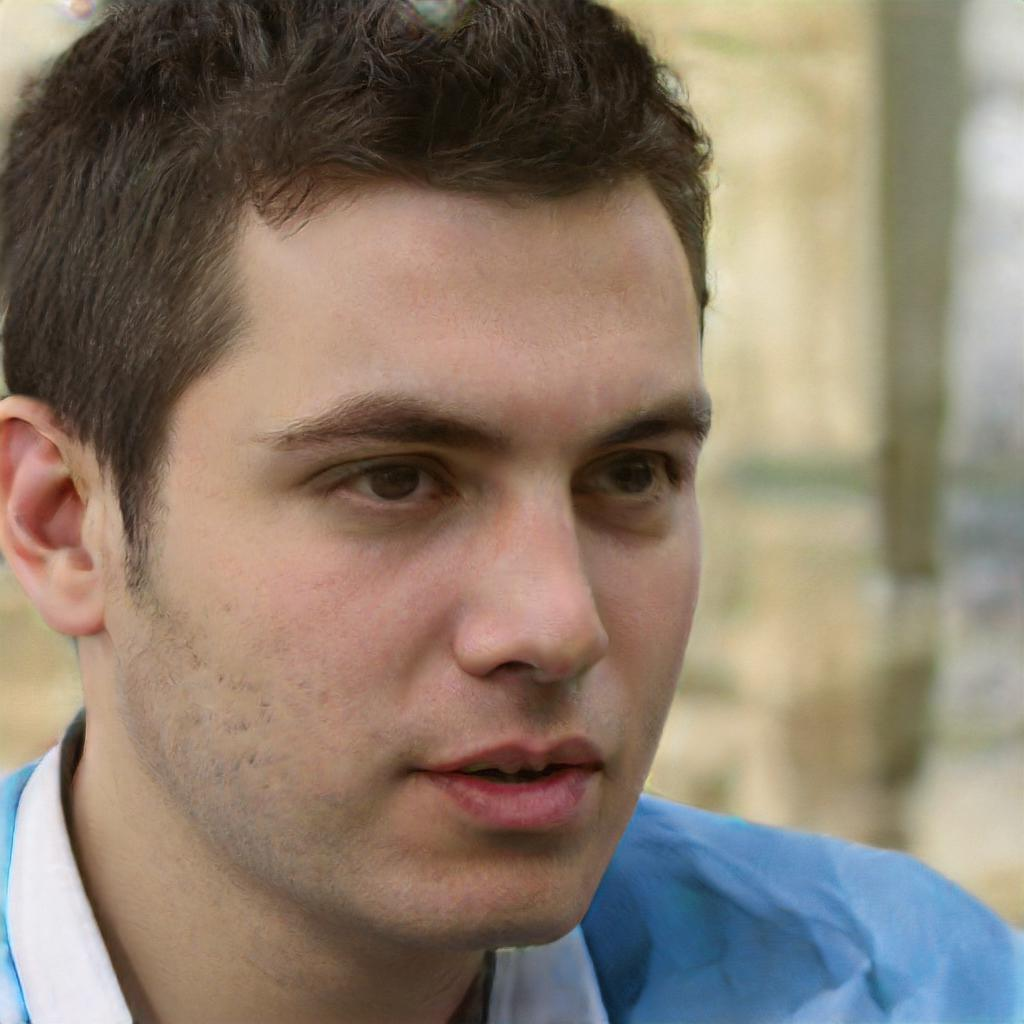face: (107, 190, 712, 943)
